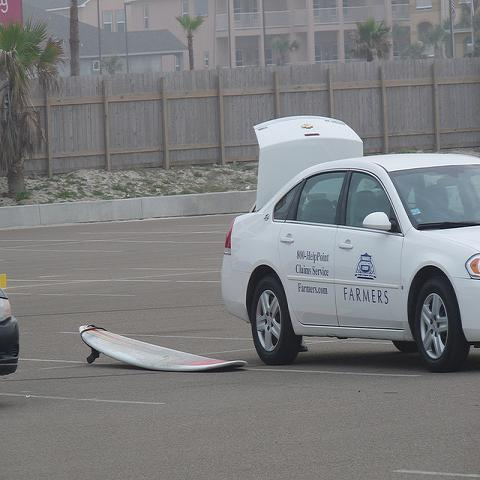car: (219, 113, 479, 372), (0, 290, 21, 373)
